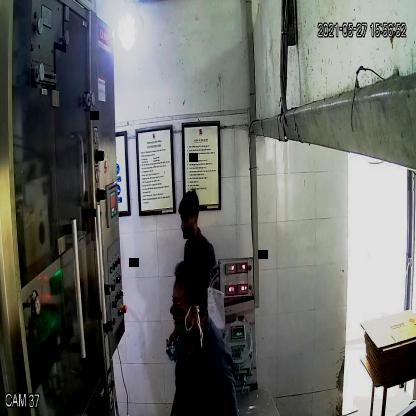no_goggles: (178, 212, 197, 228)
